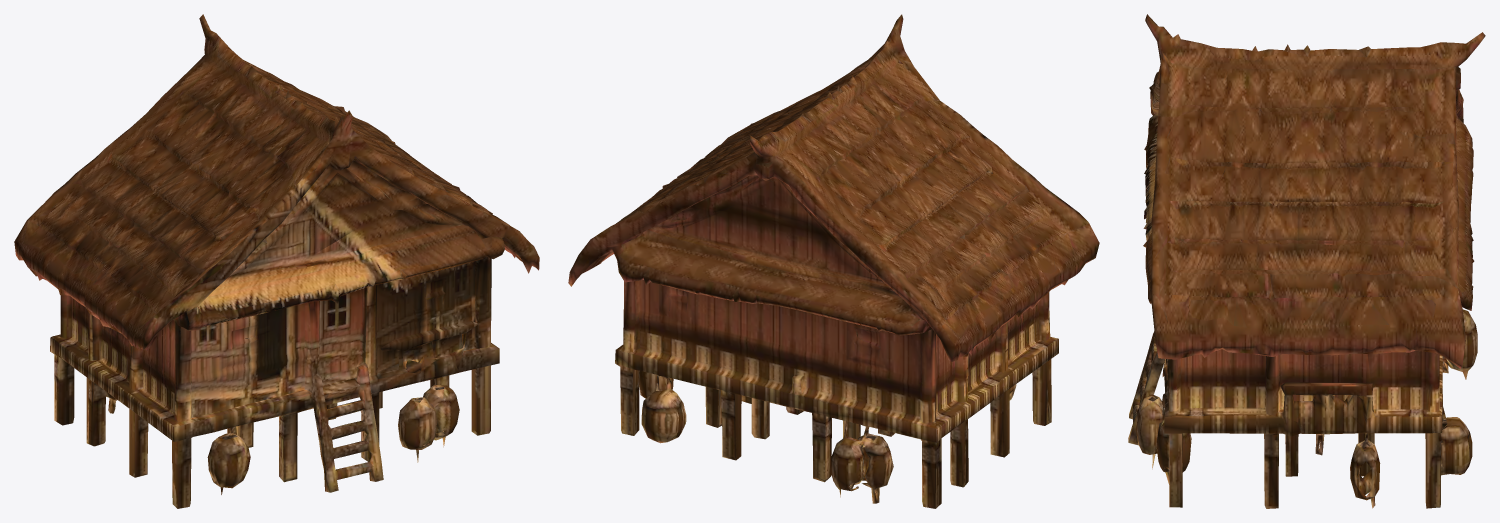
The model's file is toad-prop3d-stilt-house.glb.
The picture shows the model from 3 angles, left to right: view 1: azimuth 30°, elevation 25°; view 2: azimuth 150°, elevation 25°; view 3: azimuth 270°, elevation 25°; orthographic projection. The views are drawn at different scales.
Parts seen in each view (by area): view 1: world; view 2: world; view 3: world.
Part boxes in pixels (x1=…): world: x1=14, y1=14, x2=539, y2=508; world: x1=568, y1=14, x2=1099, y2=508; world: x1=1128, y1=14, x2=1485, y2=508.
Size of the model in its own units: 0.52 by 0.465 by 0.36.
1 material, 1 textured.
